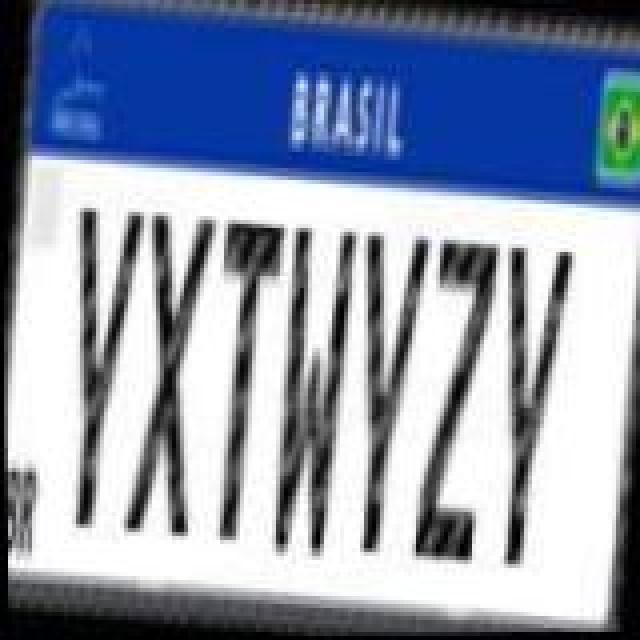T: (194, 214, 290, 546)
W: (256, 220, 356, 564)
X: (118, 208, 222, 544)
Y: (48, 202, 152, 538), (330, 232, 434, 564), (474, 244, 578, 576)
Z: (406, 238, 502, 570)
